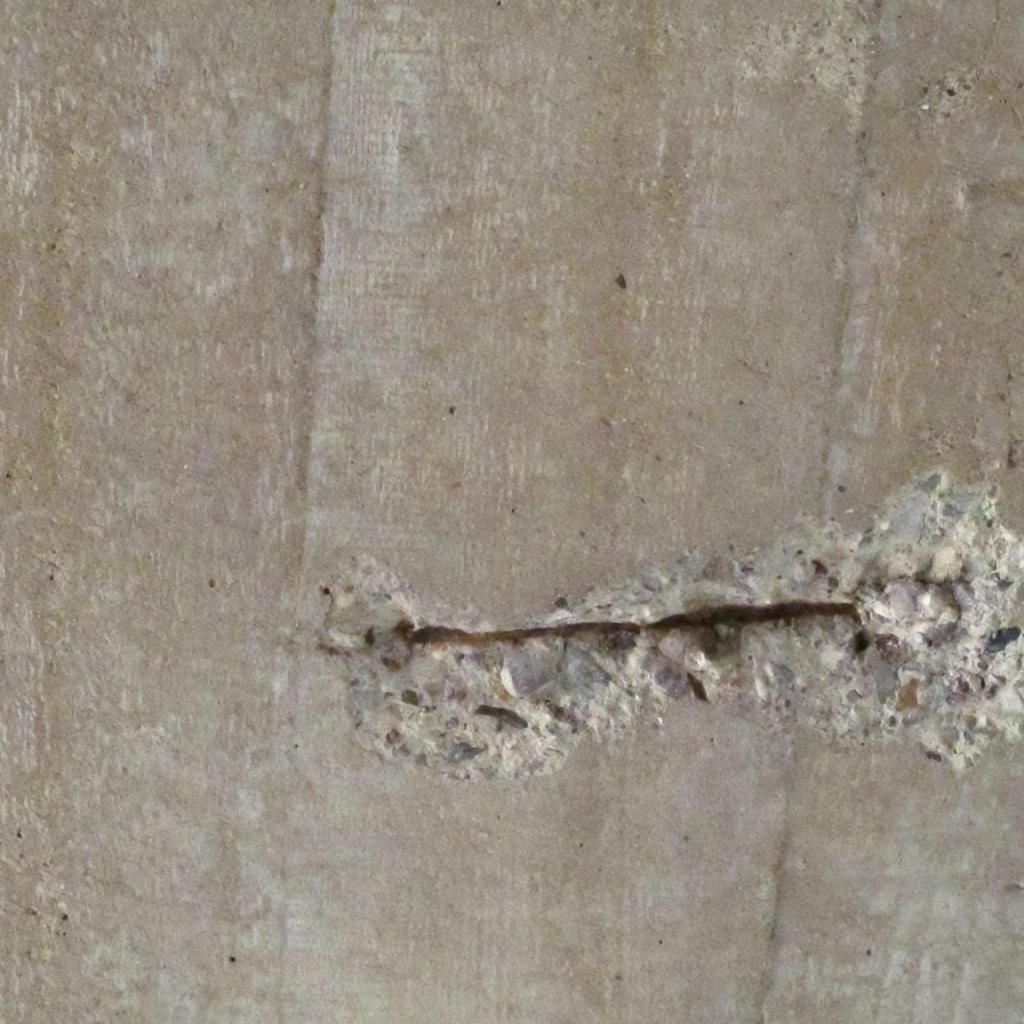exposed_rebar: (408, 600, 860, 644)
spalling: (320, 474, 1024, 778)
